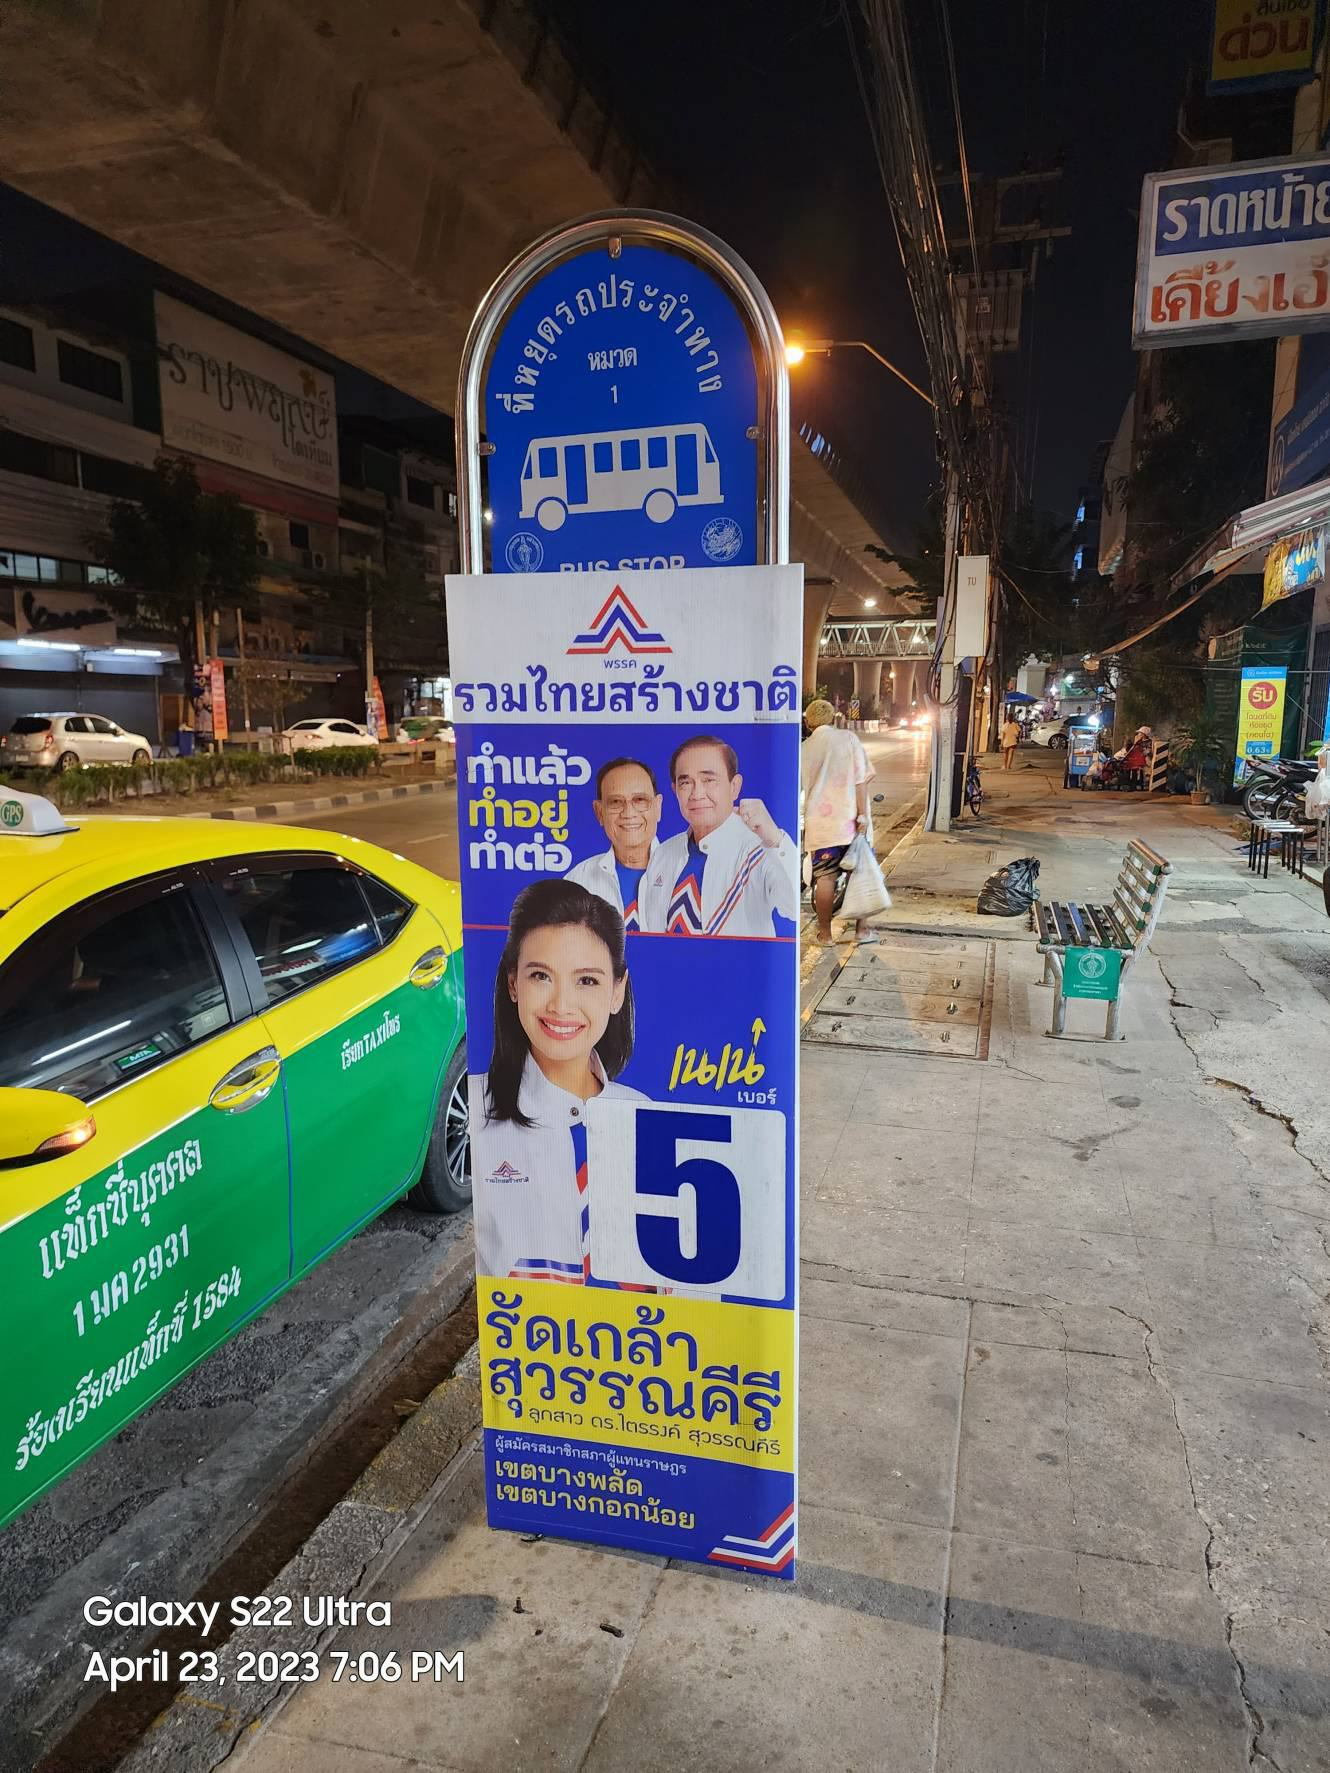Banner: (447, 570, 798, 1590)
